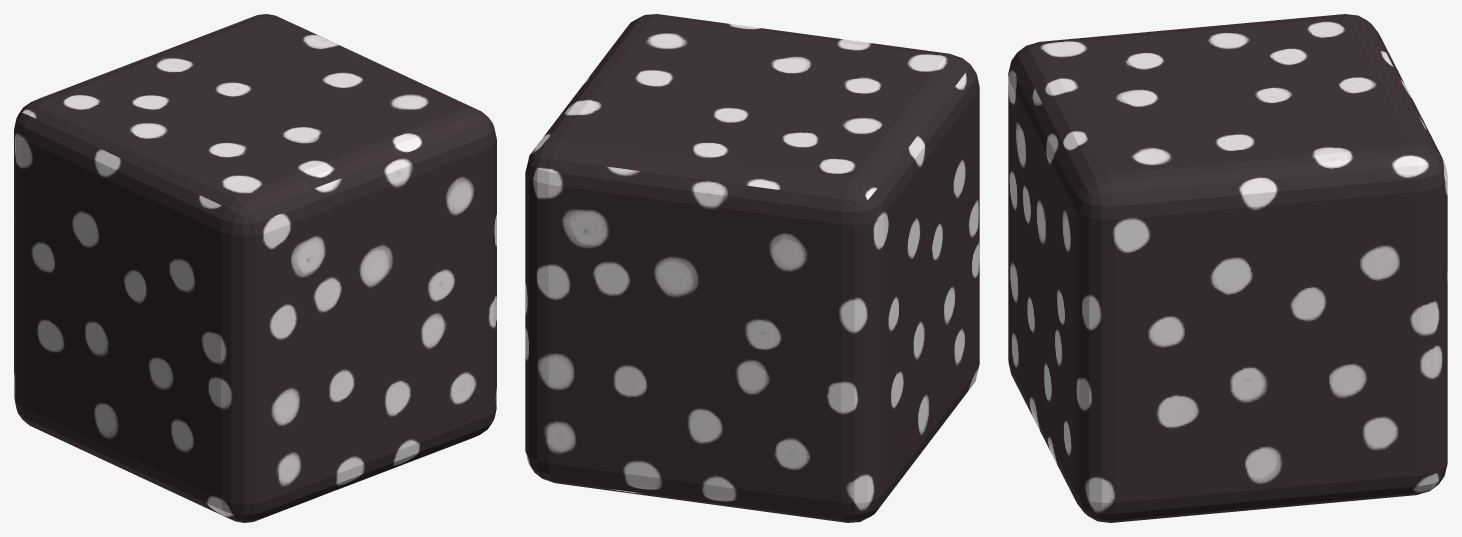
The model's file is 010_Shadow_Box_02.fbx.
The picture shows the model from 3 angles, left to right: view 1: azimuth 30°, elevation 25°; view 2: azimuth 150°, elevation 25°; view 3: azimuth 270°, elevation 25°; orthographic projection. The views are drawn at different scales.
Parts seen in each view (by area): view 1: Cube.019; view 2: Cube.019; view 3: Cube.019.
Boxes of the visible parts, x1,y1,x2,y2 form: Cube.019: [14, 14, 496, 522]; Cube.019: [525, 14, 979, 522]; Cube.019: [1008, 14, 1447, 522].
Size of the model in its own units: 130 by 113 by 130.
